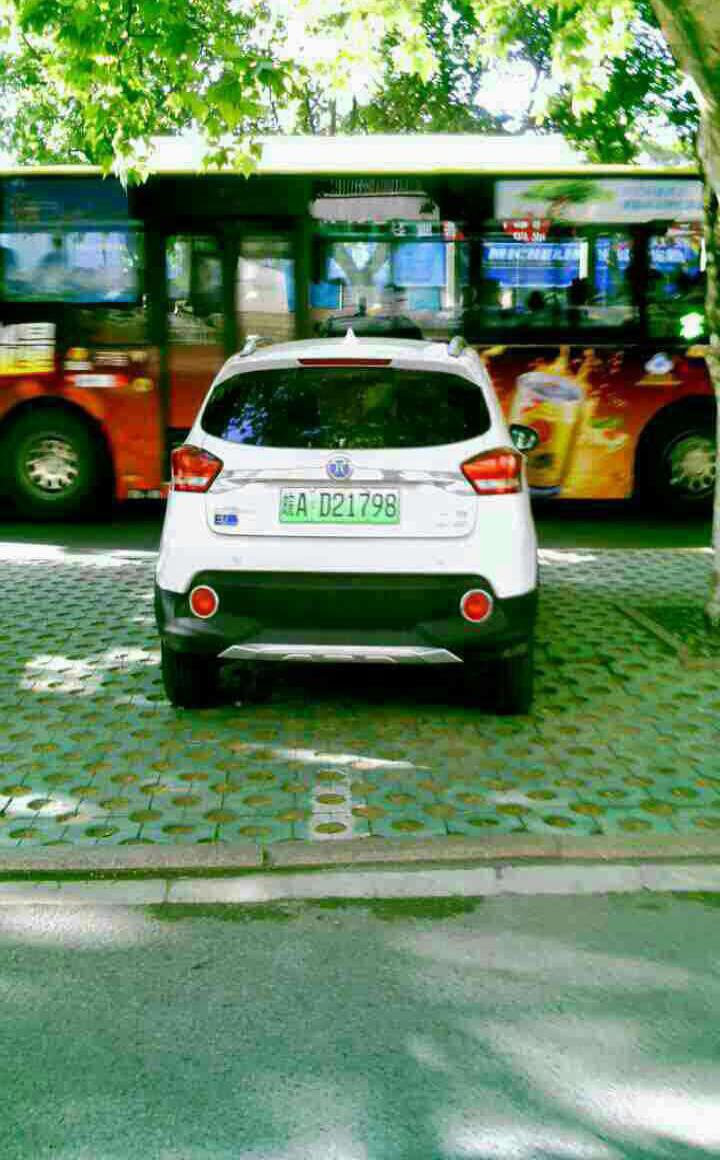car: (282, 484, 401, 527)
